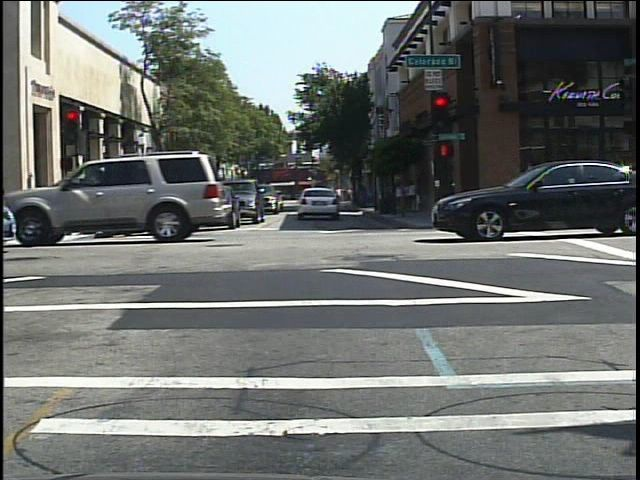person: (83, 185, 99, 229), (178, 181, 195, 220), (132, 184, 147, 215)
